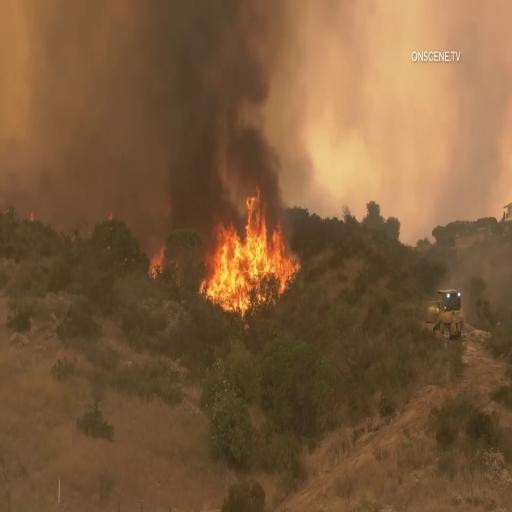fire: (198, 170, 302, 314)
smoke: (143, 8, 218, 214), (209, 19, 282, 167)
